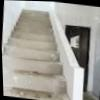Bench: (0, 4, 77, 100)
